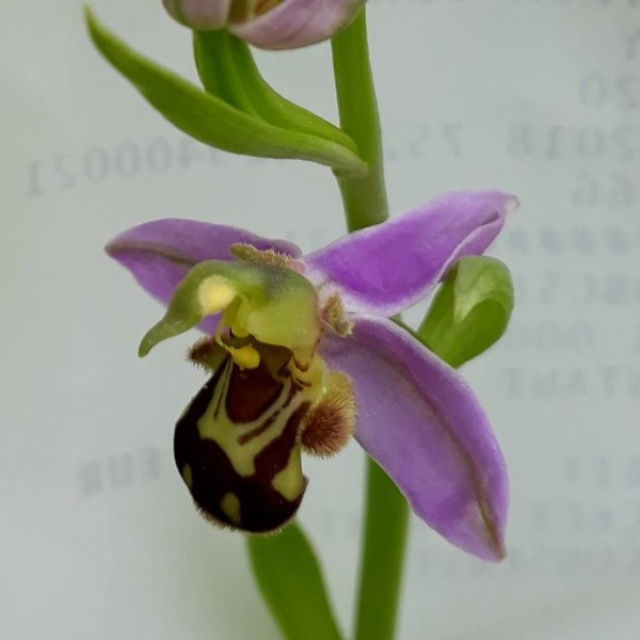obstacle: (124, 13, 522, 620)
